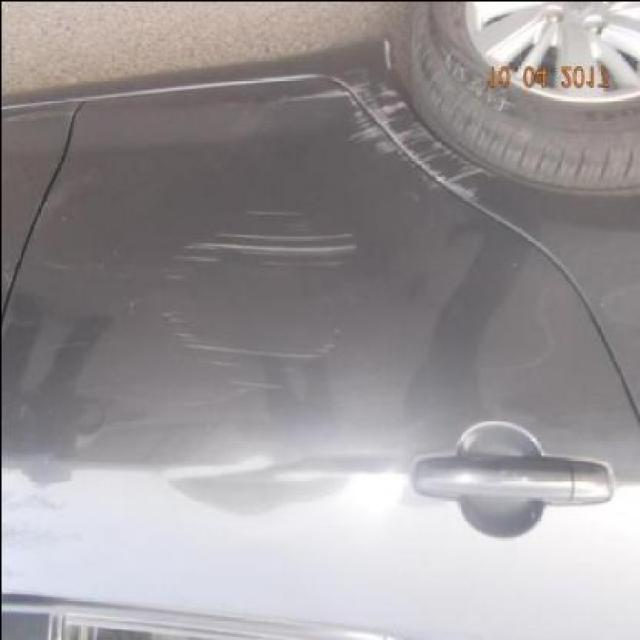damage: (267, 32, 502, 207), (159, 302, 341, 408), (191, 205, 351, 269)
